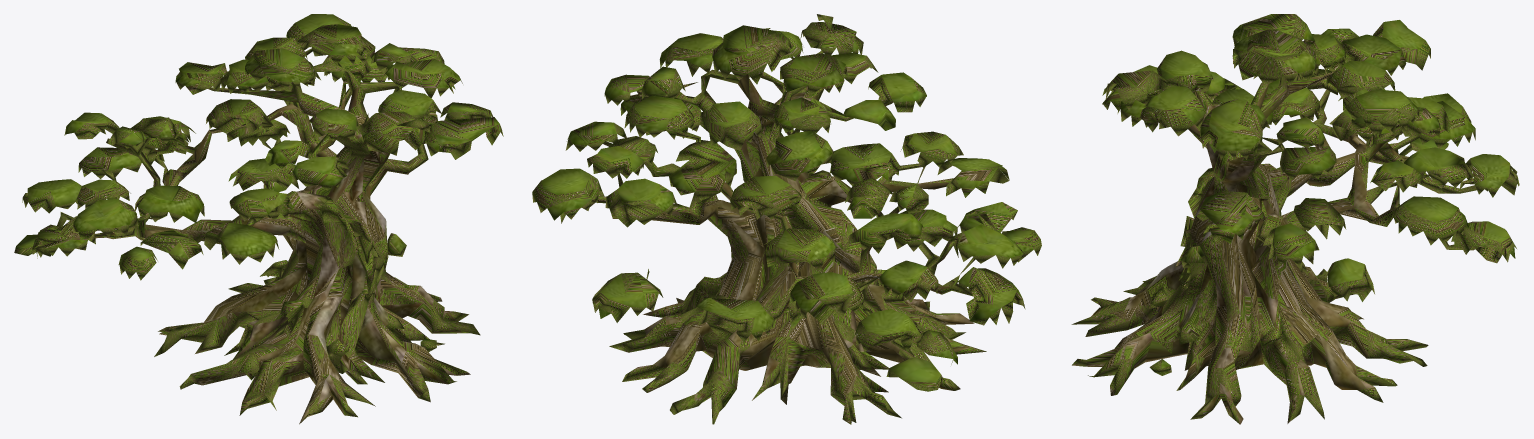
The model's file is prop_co_thu.418c61bc39.glb.
3 renders of one model, left to right at view 1: azimuth 30°, elevation 25°; view 2: azimuth 150°, elevation 25°; view 3: azimuth 270°, elevation 25°, orthographic. The views are drawn at different scales.
Visible parts, largest first — view 1: prop_co_thu; view 2: prop_co_thu; view 3: prop_co_thu.
Boxes of the visible parts, x1,y1,x2,y2 form: prop_co_thu: (14,14,503,424); prop_co_thu: (532,14,1041,424); prop_co_thu: (1071,14,1519,424).
Size of what is drawn, in the model's own units: 27.11 by 17.84 by 22.32.
Materials: 1 (1 with a texture image).
